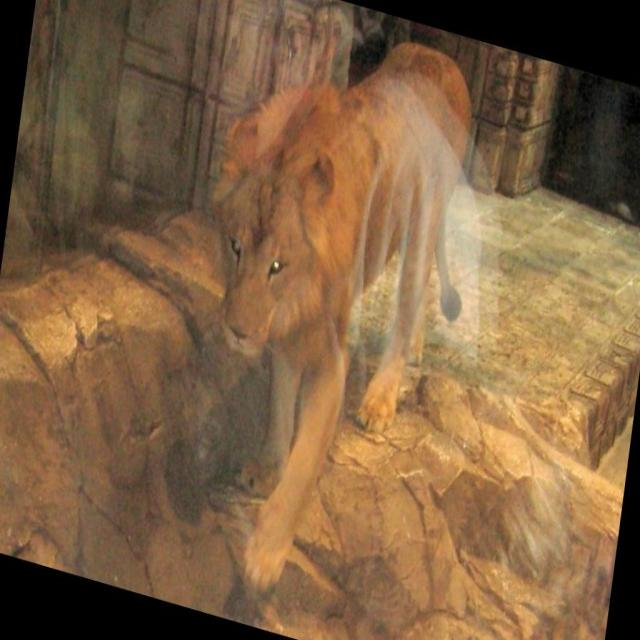Lion: (168, 0, 492, 638)
